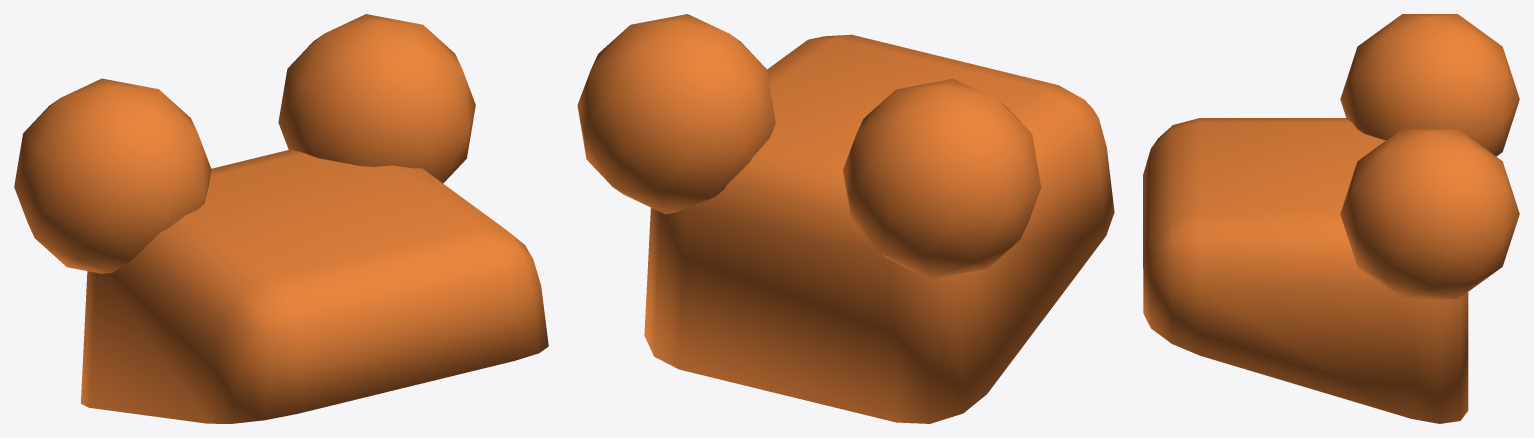
Rendered from hairBuns.fbx.
3 renders of one model, left to right at view 1: azimuth 30°, elevation 25°; view 2: azimuth 150°, elevation 25°; view 3: azimuth 270°, elevation 25°, orthographic. The views are drawn at different scales.
Parts seen in each view (by area): view 1: Test Hair; view 2: Test Hair; view 3: Test Hair.
Boxes of the visible parts, x1=… form: Test Hair: x1=14, y1=14, x2=548, y2=423; Test Hair: x1=577, y1=14, x2=1114, y2=423; Test Hair: x1=1143, y1=14, x2=1519, y2=423.
Bounding box in the file's own units: 66.32 × 56.5 × 47.71.
